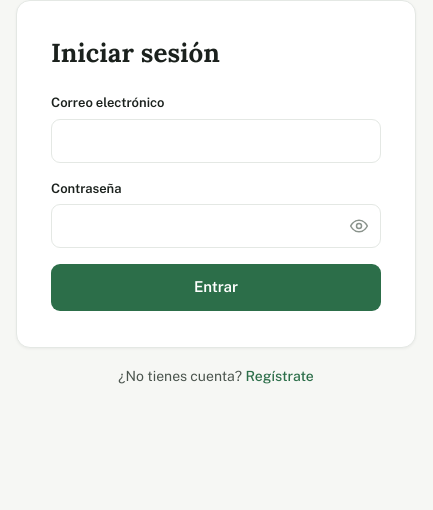
auth pages navigation › navigates between the login and register pages via their links
The width and height of the screenshot is (433, 510).
Expected: the heading "Iniciar sesión" is shown, [51,36,220,69]
Click the link "Regístrate": (280, 376) [246,368,314,384]
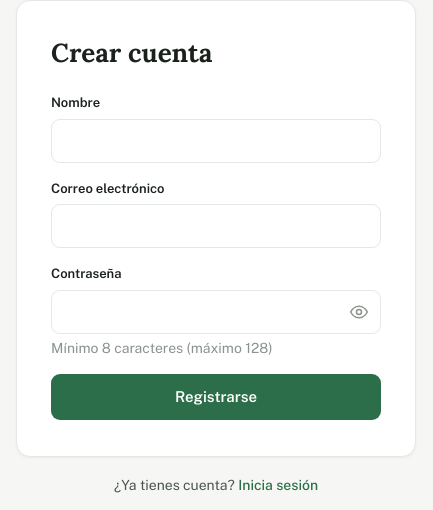
Expected: the heading "Crear cuenta" is shown, [51,36,212,69]
Click the link "Inicia sesión": (278, 485) [238,477,318,493]
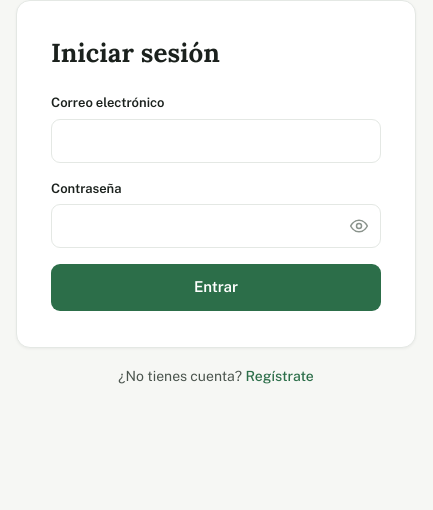
Expected: the heading "Iniciar sesión" is shown, [51,36,220,69]
